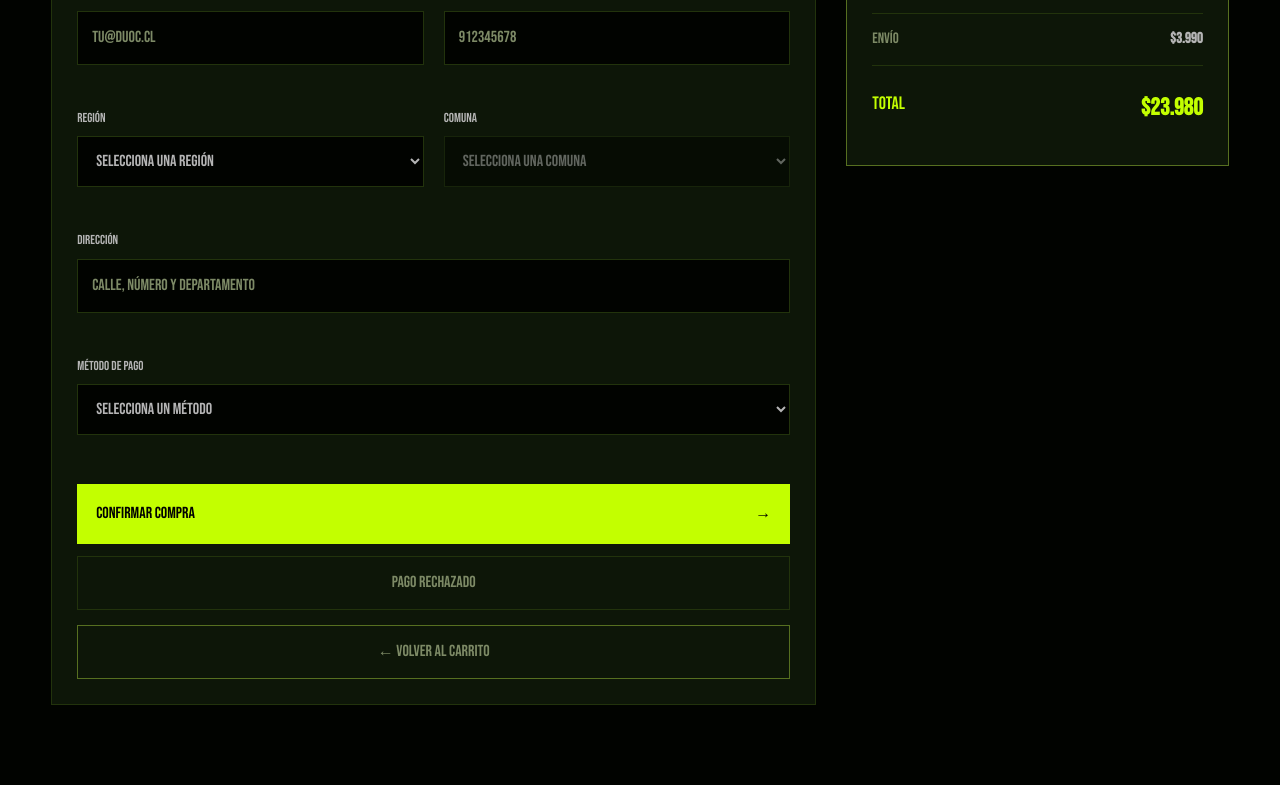
Test: Página Checkout › debería mostrar errores al enviar el formulario vacío
(page scrolled)
Click the button "CONFIRMAR COMPRA →": (146, 514) [77,484,790,544]
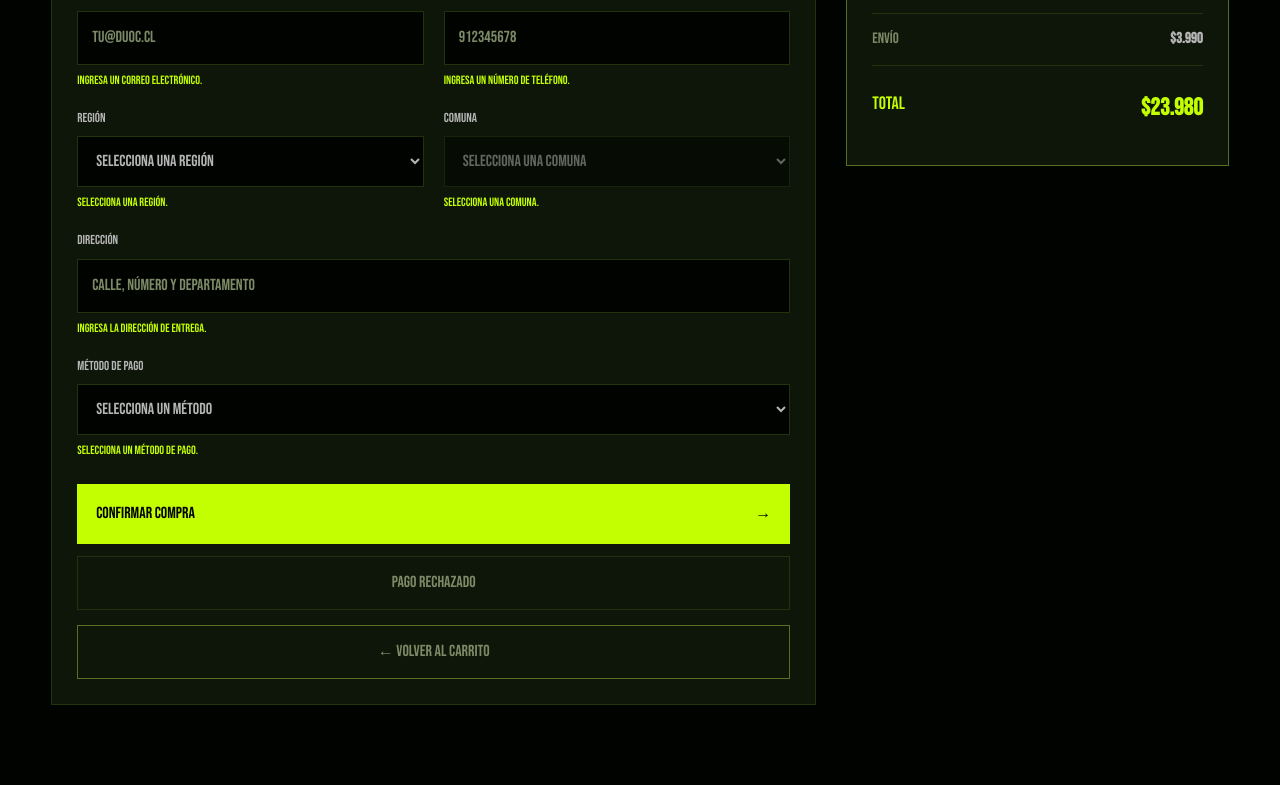
Now the text "Ingresa un correo electrónico." is shown, box [77,73,202,88]
Now the text "Selecciona un método de pago." is shown, box [77,443,198,458]
